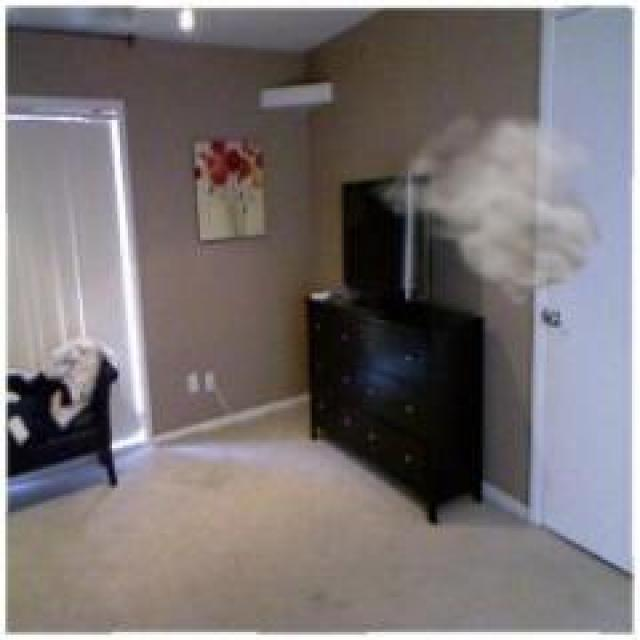smoke: (362, 105, 626, 308)
